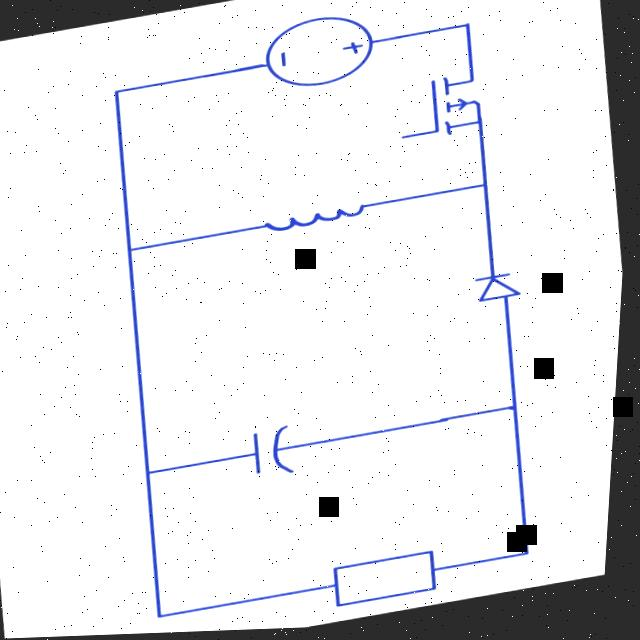capacitor: (238, 406, 333, 491)
diode: (463, 263, 538, 320)
inductor: (243, 191, 384, 259)
mosfet: (391, 66, 503, 157)
resistor: (315, 541, 463, 624)
source: (244, 5, 398, 104)
